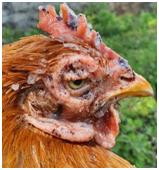AbNormal: (36, 3, 131, 66)
